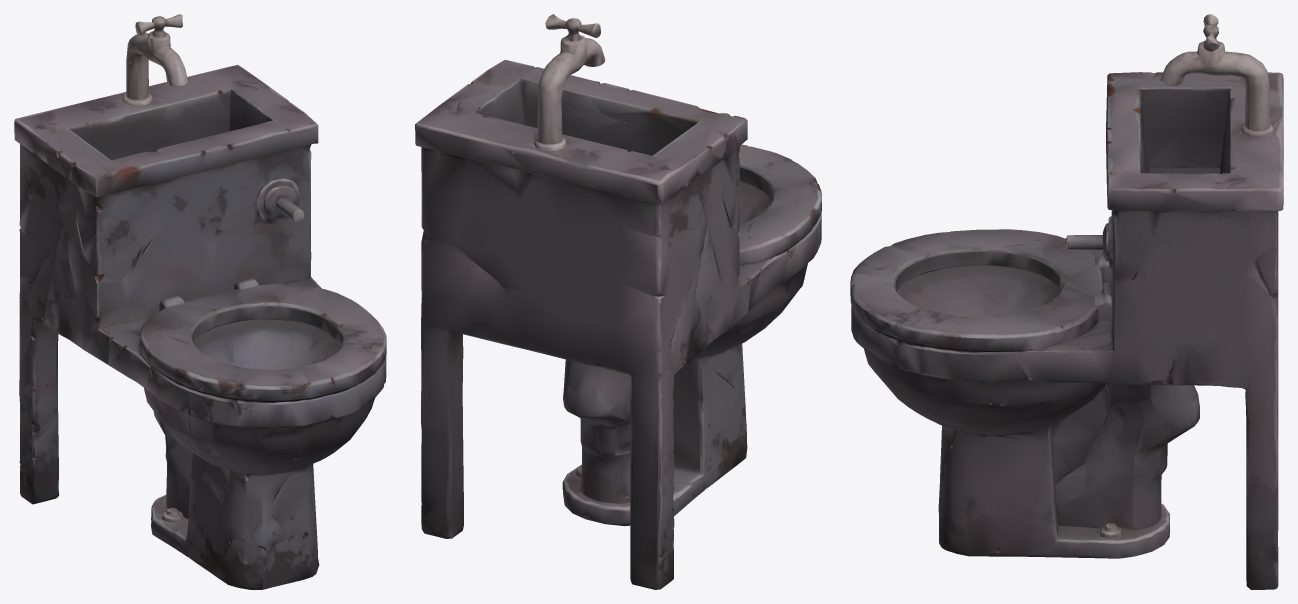
The model's file is prison_toilet_sink_idle.glb.
3 renders of one model, left to right at view 1: azimuth 30°, elevation 25°; view 2: azimuth 150°, elevation 25°; view 3: azimuth 270°, elevation 25°, orthographic. The views are drawn at different scales.
Parts seen in each view (by area): view 1: tripo_node_987d72bd-0feb-4414-826f-2aa4657b8e7d; view 2: tripo_node_987d72bd-0feb-4414-826f-2aa4657b8e7d; view 3: tripo_node_987d72bd-0feb-4414-826f-2aa4657b8e7d.
Part boxes in pixels (x1=…): tripo_node_987d72bd-0feb-4414-826f-2aa4657b8e7d: x1=14, y1=14, x2=386, y2=589; tripo_node_987d72bd-0feb-4414-826f-2aa4657b8e7d: x1=415, y1=14, x2=821, y2=589; tripo_node_987d72bd-0feb-4414-826f-2aa4657b8e7d: x1=850, y1=14, x2=1283, y2=589.
Bounding box in the file's own units: 0.552 × 1.1 × 0.8492.
1 material, 1 textured.
